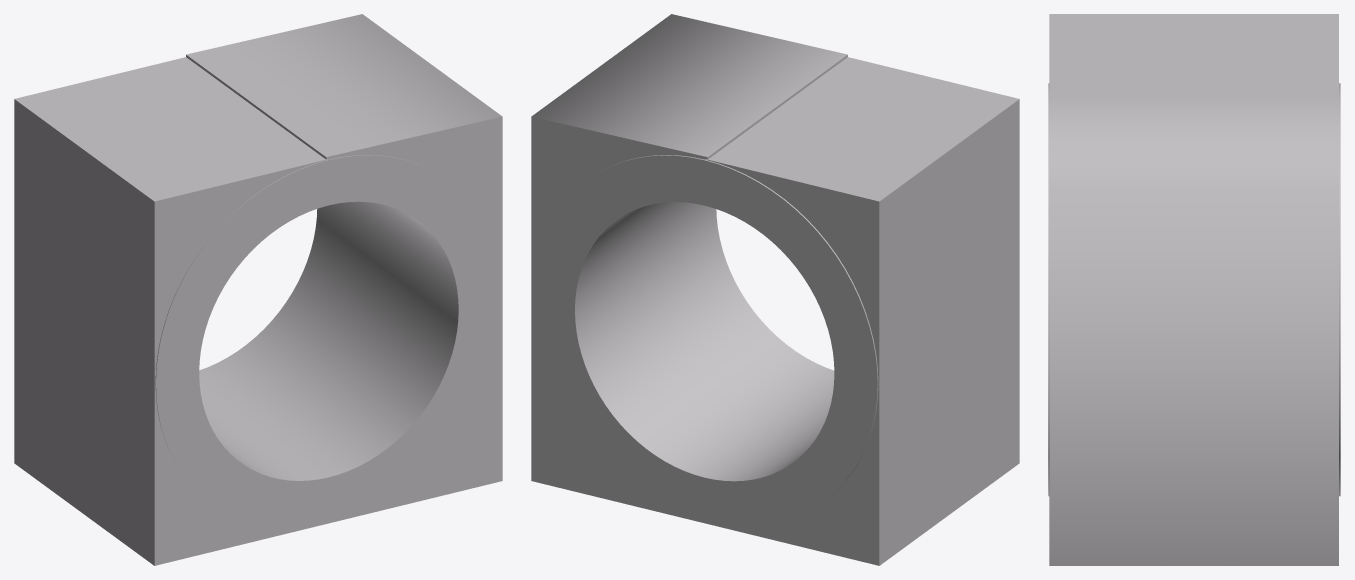
Rendered from PlateHole.fbx.
3 renders of one model, left to right at view 1: azimuth 30°, elevation 25°; view 2: azimuth 150°, elevation 25°; view 3: azimuth 270°, elevation 25°, orthographic. The views are drawn at different scales.
Visible parts, largest first — view 1: root (×2); view 2: root (×2); view 3: root (×2).
Boxes of the visible parts, <box> form: root (×2): <box>14,14,502,565</box>; root (×2): <box>531,14,1019,565</box>; root (×2): <box>1048,14,1340,565</box>.
Size of the model in its own units: 0.1434 by 0.1443 by 0.1008.
2 materials, 2 textured.
